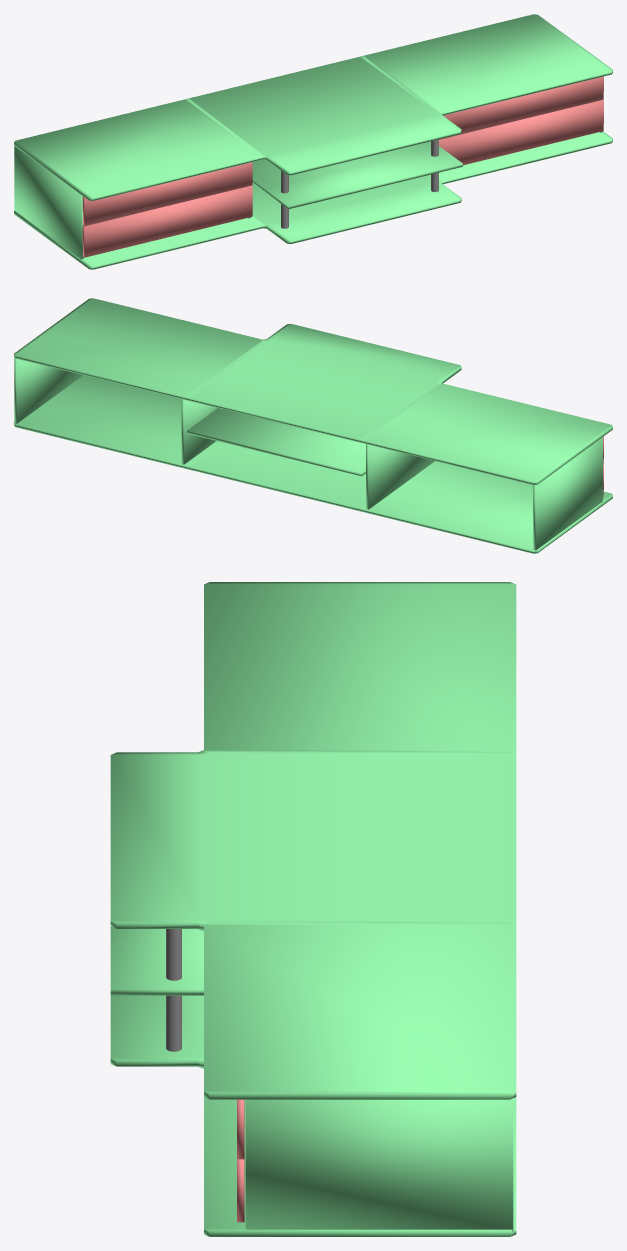
File: tavolo_tv_002.fbx
The picture shows the model from 3 angles, top to bottom: view 1: azimuth 30°, elevation 25°; view 2: azimuth 150°, elevation 25°; view 3: azimuth 270°, elevation 25°; orthographic projection. The views are drawn at different scales.
Visible parts, largest first — view 1: tavolo_tv_002:Cube_6; view 2: tavolo_tv_002:Cube_6; view 3: tavolo_tv_002:Cube_6.
Boxes of the visible parts, <box> form: tavolo_tv_002:Cube_6: <box>14,14,612,269</box>; tavolo_tv_002:Cube_6: <box>14,298,612,553</box>; tavolo_tv_002:Cube_6: <box>110,582,516,1236</box>.
Size of the model in its own units: 24.63 by 3.23 by 8.25.
